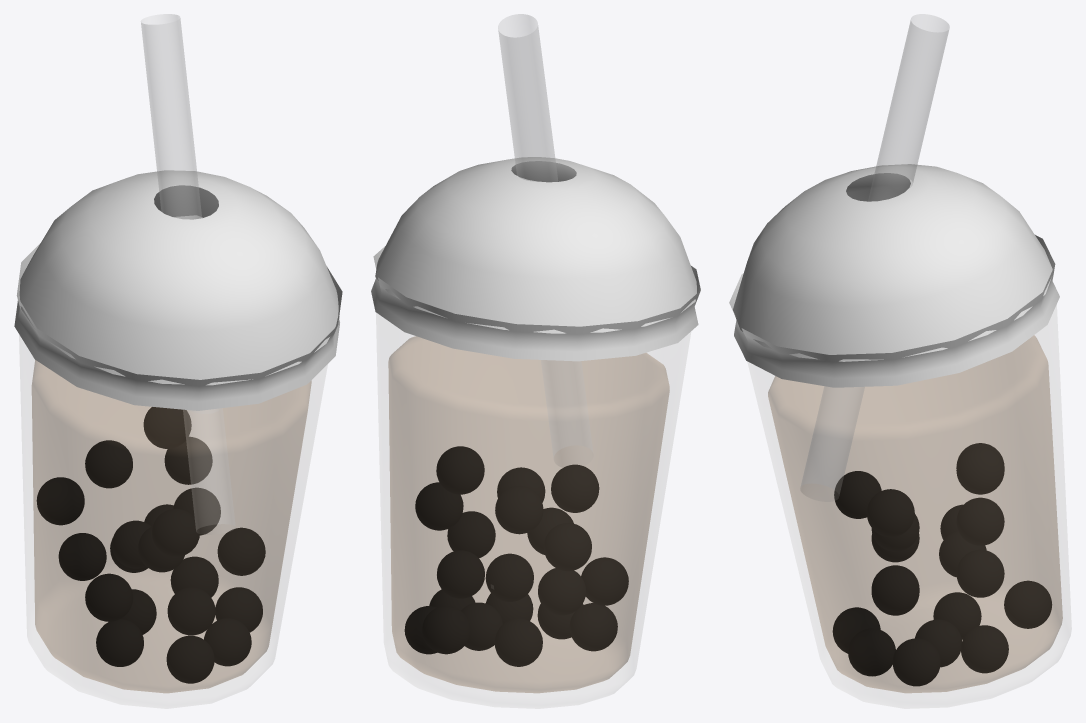
Rendered from milktea.glb.
3 renders of one model, left to right at view 1: azimuth 30°, elevation 25°; view 2: azimuth 150°, elevation 25°; view 3: azimuth 270°, elevation 25°, orthographic.
Parts seen in each view (by area): view 1: Straw; view 2: Straw; view 3: Straw.
Part boxes in pixels (bbox=[...]): Straw: bbox=[14, 14, 342, 708]; Straw: bbox=[371, 14, 700, 708]; Straw: bbox=[729, 14, 1071, 708].
Bounding box in the file's own units: 1.3 × 2.85 × 1.35.
